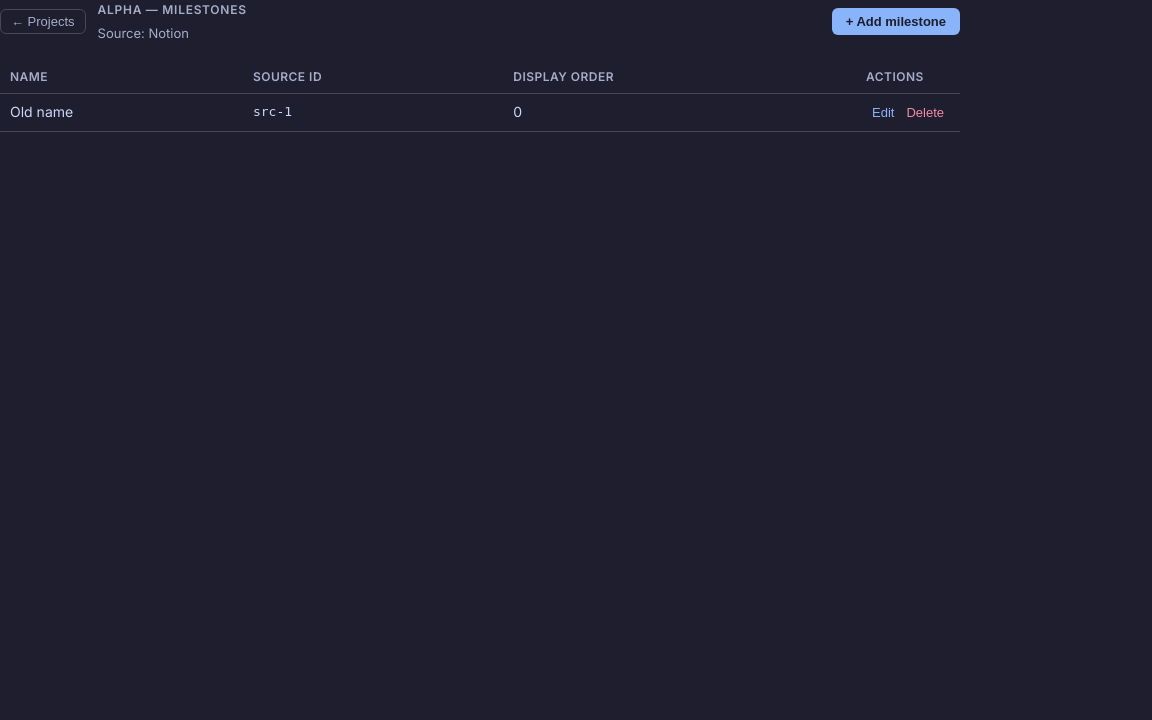
Test case: MilestonesSubPanel › Edit milestone PATCHes to /api/milestones/:id
Expected: the text "Old name" is shown, 0,94 -> 243,131
Click the button "Edit": coordinates (883, 113) 866,103 -> 900,122
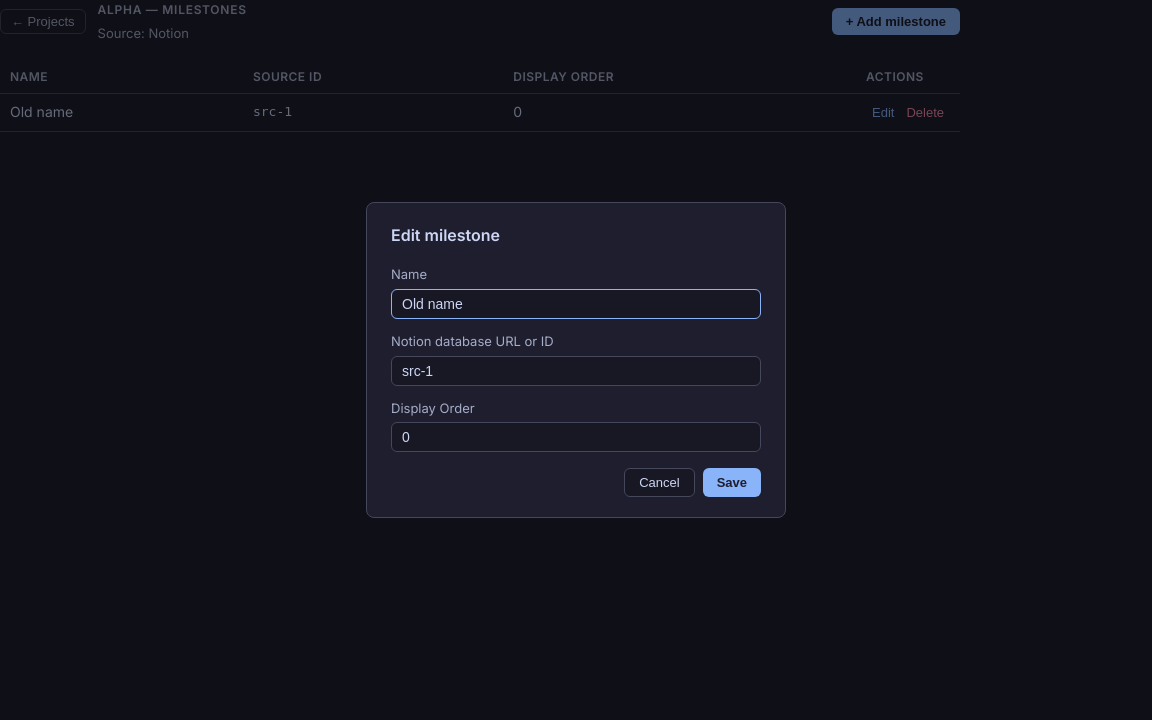
Replace the text in the field labelled "Name" with "New name": coordinates (576, 304) 391,289 -> 761,319
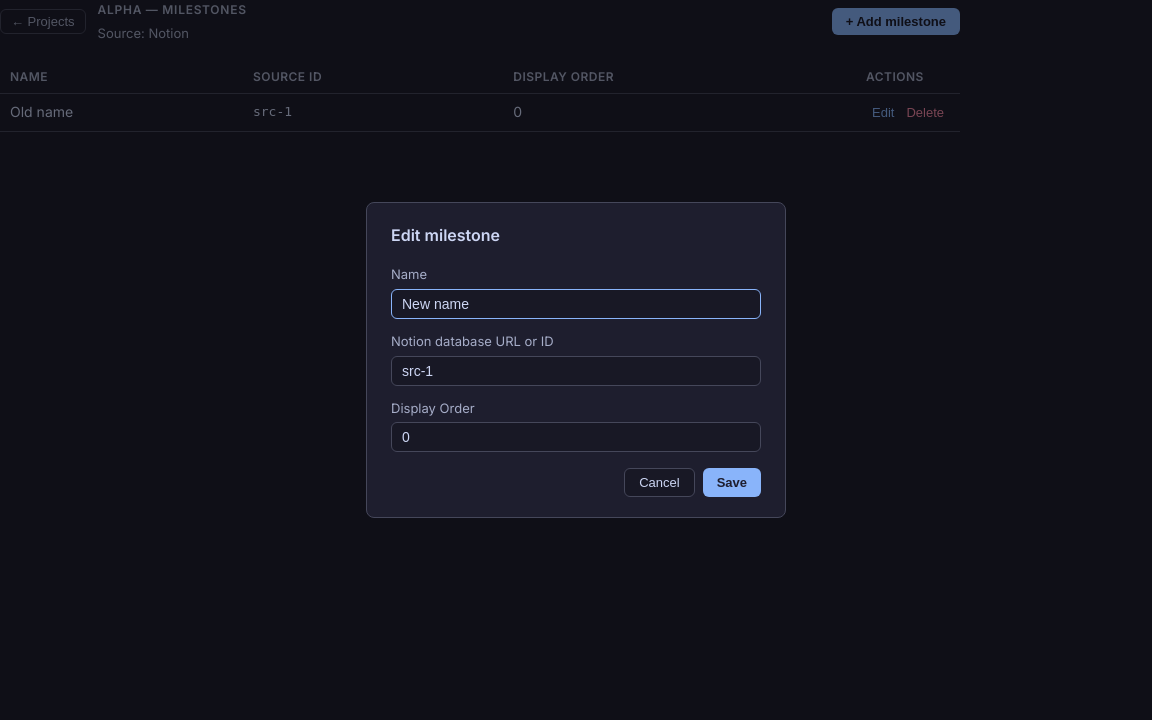
Click the button "Save": coordinates (732, 483) 703,468 -> 761,498
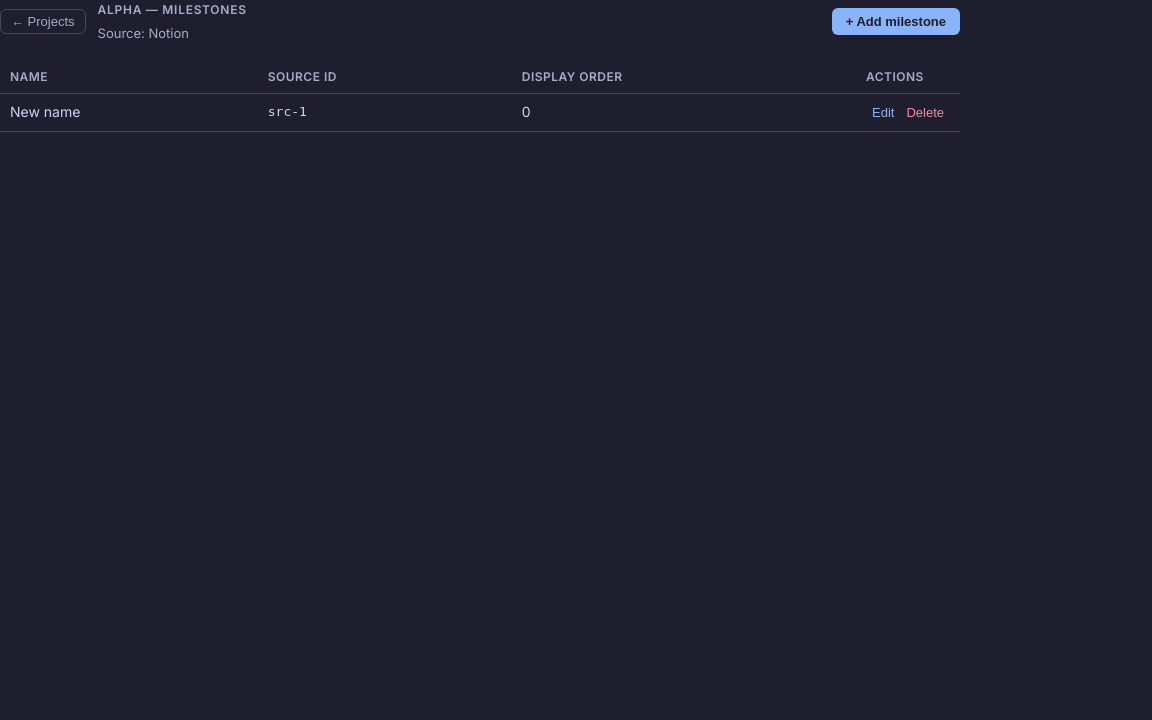
Expected: the text "New name" is shown, 0,94 -> 258,131
